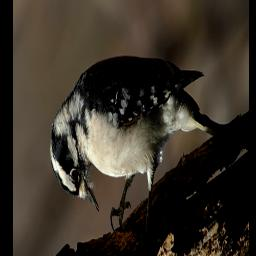Woodpecker: (51, 56, 230, 232)
